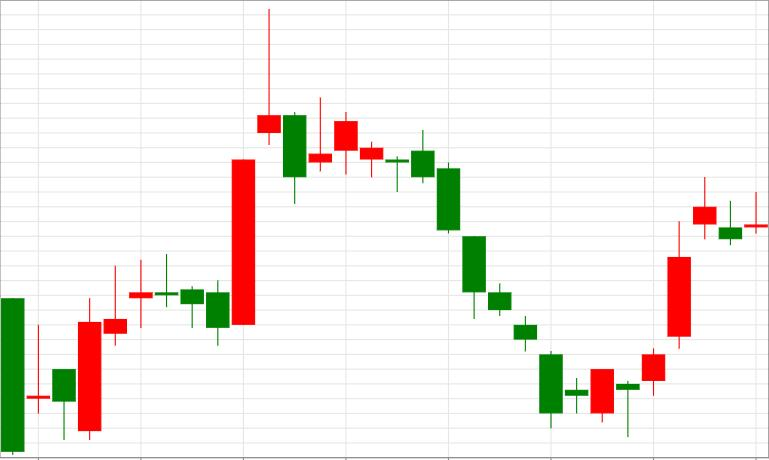shooting_star_fall: (104, 9, 281, 348)
